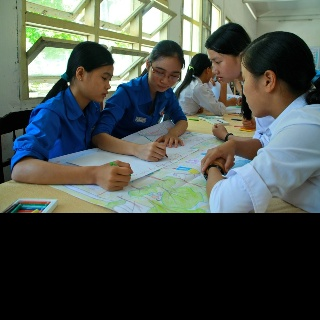without_mask: (238, 56, 271, 118), (72, 62, 113, 100), (205, 46, 241, 83), (202, 63, 213, 85)
